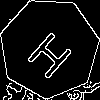H: (24, 23, 82, 81)
